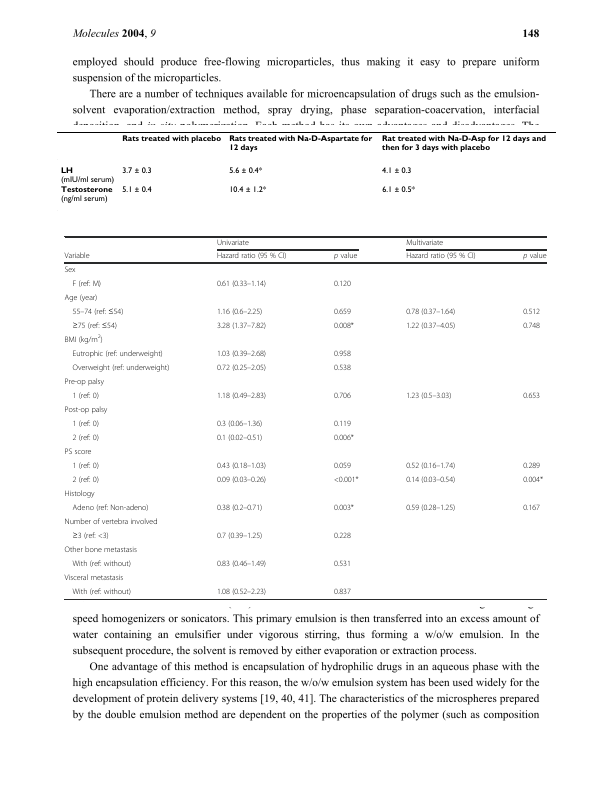borderless: (63, 235, 547, 599), (55, 130, 557, 212)
cell: (381, 135, 546, 153), (228, 135, 373, 153), (59, 166, 115, 185), (71, 363, 170, 373), (59, 186, 113, 204), (64, 517, 158, 527), (71, 349, 164, 359), (121, 135, 222, 144), (71, 503, 149, 513), (64, 545, 138, 555), (405, 252, 477, 262), (216, 252, 287, 262), (71, 559, 132, 569), (71, 587, 132, 597), (64, 573, 124, 583), (71, 307, 124, 317), (216, 279, 267, 289), (405, 307, 456, 317), (216, 321, 267, 331), (405, 321, 456, 331), (216, 349, 267, 359), (216, 363, 267, 373), (216, 391, 267, 401), (216, 461, 267, 471), (405, 461, 456, 471), (216, 475, 267, 485), (405, 475, 456, 485), (405, 503, 456, 513), (216, 559, 267, 569), (216, 587, 267, 597), (216, 307, 263, 317), (71, 321, 118, 331), (405, 391, 452, 401), (216, 419, 263, 429), (216, 433, 263, 443), (216, 503, 263, 513), (216, 531, 263, 541), (64, 334, 104, 345), (64, 405, 108, 415), (64, 377, 105, 387), (228, 185, 267, 195), (71, 531, 110, 541), (405, 239, 444, 248), (228, 166, 263, 176), (381, 185, 415, 195), (64, 293, 98, 303), (121, 166, 152, 176), (381, 166, 412, 176), (121, 185, 152, 195), (71, 279, 102, 289), (64, 489, 95, 499), (216, 239, 250, 248), (71, 391, 100, 401), (71, 419, 100, 429), (71, 433, 100, 443), (71, 461, 100, 471), (71, 475, 100, 485), (64, 447, 92, 457), (333, 475, 360, 485), (64, 252, 90, 262), (333, 252, 358, 262), (522, 252, 547, 262), (333, 321, 355, 331), (333, 433, 355, 443), (522, 475, 544, 485), (333, 503, 355, 513), (333, 279, 352, 289), (333, 307, 352, 317), (522, 307, 541, 317), (522, 321, 541, 331), (333, 349, 352, 359), (333, 363, 352, 373), (333, 391, 352, 401), (522, 391, 541, 401), (333, 419, 352, 429), (333, 461, 352, 471), (522, 461, 541, 471), (522, 503, 541, 513), (333, 531, 352, 541), (333, 559, 352, 569), (333, 587, 352, 597), (64, 265, 76, 275)
